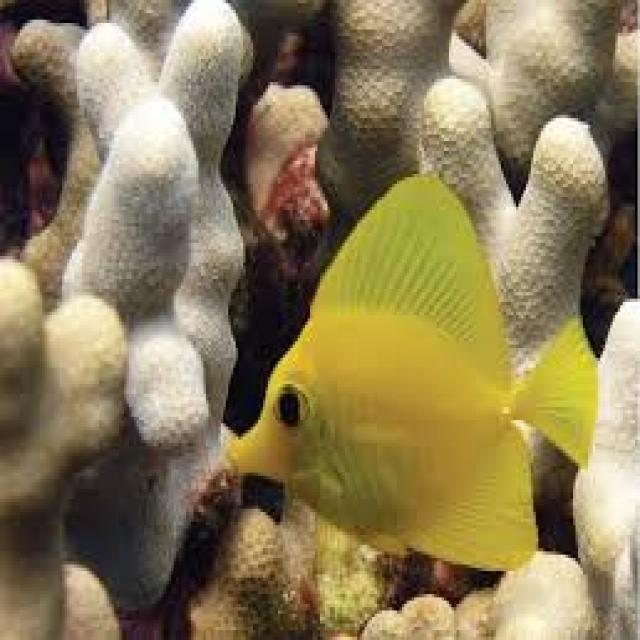YellowTang: (207, 164, 607, 593)
